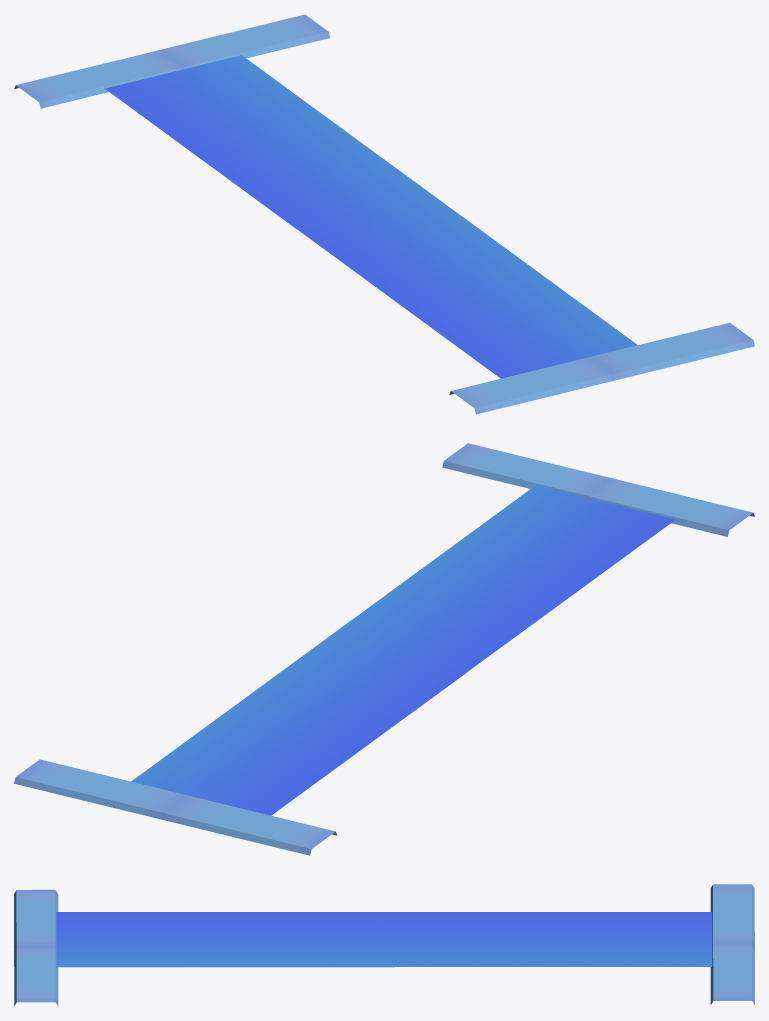
The model's file is Area_09_18.fbx.
3 views of the same model, one above another, from view 1: azimuth 30°, elevation 25°; view 2: azimuth 150°, elevation 25°; view 3: azimuth 270°, elevation 25° (orthographic). The views are drawn at different scales.
Parts seen in each view (by area): view 1: Area_09_18; view 2: Area_09_18; view 3: Area_09_18.
Part boxes in pixels (bbox=[...]): Area_09_18: bbox=[14, 14, 754, 414]; Area_09_18: bbox=[14, 443, 754, 855]; Area_09_18: bbox=[14, 884, 754, 1005].
Size of the model in its own units: 1663 by 29.72 by 4420.
